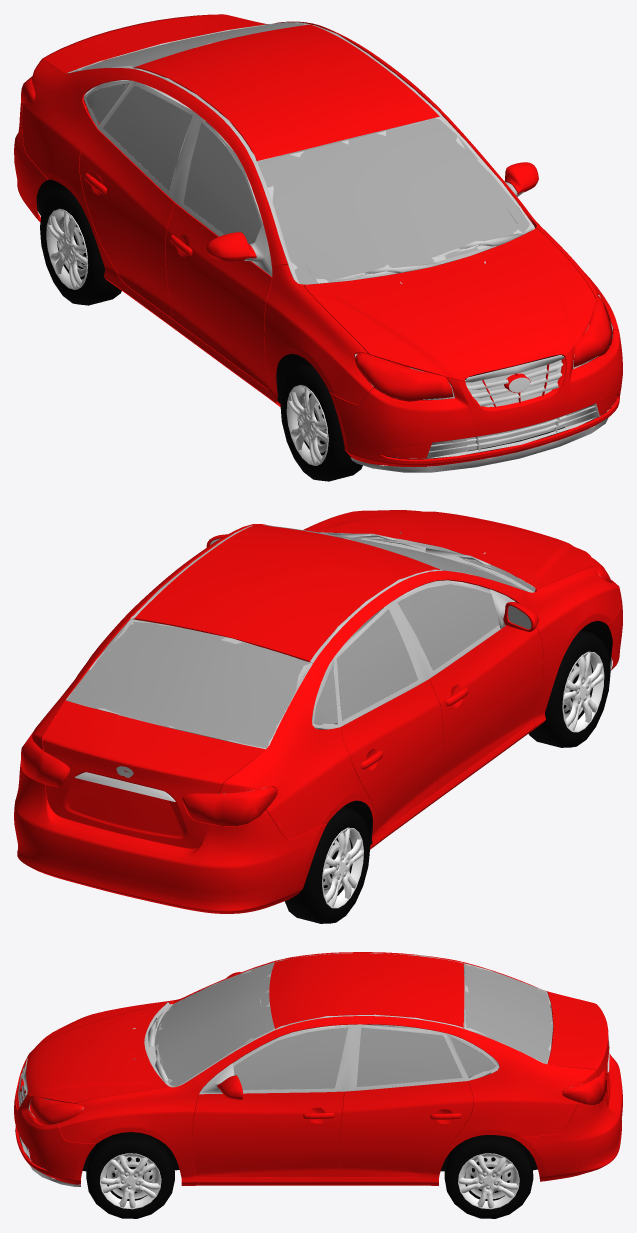
File: Elantra_LowPoly.fbx
The picture shows the model from 3 angles, top to bottom: view 1: azimuth 30°, elevation 25°; view 2: azimuth 150°, elevation 25°; view 3: azimuth 270°, elevation 25°; orthographic projection. The views are drawn at different scales.
Visible parts, largest first — view 1: ELANTRA_BODY, ELANTRA_Windows_lt, ELANTRA_Black_Plastic, ELANTRA_Headlight_glass, ELANTRA_Tires_3, ELANTRA_Tires_2, ELANTRA_Rim_3, ELANTRA_Rim_2, ELANTRA_Black, ELANTRA_Chrome_Headlight, ELANTRA_UNDERBODY, Hyundai_Elantra_mr; view 2: ELANTRA_BODY, ELANTRA_Windows_lt, ELANTRA_Black_Plastic, ELANTRA_Headlight_glass, ELANTRA_Tires_2, ELANTRA_Tires_3, ELANTRA_Rim_2, ELANTRA_Rim_3, ELANTRA_Chrome_Headlight, ELANTRA_UNDERBODY, ELANTRA_INTERIOR, Hyundai_Elantra_mr; view 3: ELANTRA_BODY, ELANTRA_Windows_lt, ELANTRA_Black_Plastic, ELANTRA_Tires_1, ELANTRA_Tires, ELANTRA_Rim_1, ELANTRA_Rim, ELANTRA_Headlight_glass, Hyundai_Elantra_mr, ELANTRA_INTERIOR.
Boxes of the visible parts, x1,y1,x2,y2 form: ELANTRA_BODY: (14,14,622,467); ELANTRA_Windows_lt: (72,22,532,284); ELANTRA_Black_Plastic: (66,22,612,472); ELANTRA_Headlight_glass: (21,26,617,458); ELANTRA_Tires_3: (280,363,362,481); ELANTRA_Tires_2: (40,188,121,305); ELANTRA_Rim_3: (286,385,328,465); ELANTRA_Rim_2: (46,208,87,289); ELANTRA_Black: (465,356,566,450); ELANTRA_Chrome_Headlight: (79,67,597,406); ELANTRA_UNDERBODY: (36,179,612,459); Hyundai_Elantra_mr: (57,216,326,452); ELANTRA_BODY: (14,510,622,913); ELANTRA_Windows_lt: (67,525,527,748); ELANTRA_Black_Plastic: (66,525,611,749); ELANTRA_Headlight_glass: (21,558,612,825); ELANTRA_Tires_2: (284,807,370,923); ELANTRA_Tires_3: (528,630,610,747); ELANTRA_Rim_2: (322,827,363,908); ELANTRA_Rim_3: (562,651,604,732); ELANTRA_Chrome_Headlight: (75,538,531,801); ELANTRA_UNDERBODY: (343,620,612,845); ELANTRA_INTERIOR: (103,538,516,743); Hyundai_Elantra_mr: (323,658,591,895); ELANTRA_BODY: (14,952,622,1185); ELANTRA_Windows_lt: (154,963,552,1089); ELANTRA_Black_Plastic: (19,953,553,1186); ELANTRA_Tires_1: (86,1132,174,1218); ELANTRA_Tires: (444,1135,533,1218); ELANTRA_Rim_1: (100,1153,161,1209); ELANTRA_Rim: (458,1153,519,1209); ELANTRA_Headlight_glass: (28,1070,606,1169); Hyundai_Elantra_mr: (107,1156,513,1198); ELANTRA_INTERIOR: (154,965,544,1092).
Size of the model in its own units: 107 by 79.77 by 232.
